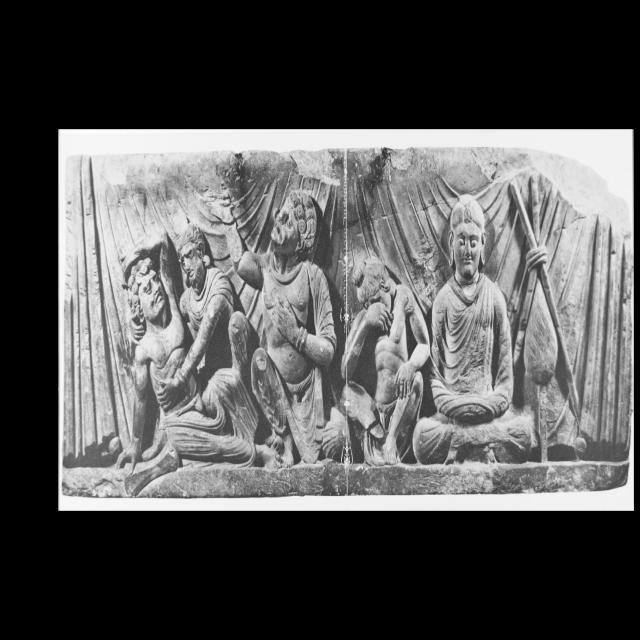buddha-sitting: (412, 196, 534, 464)
